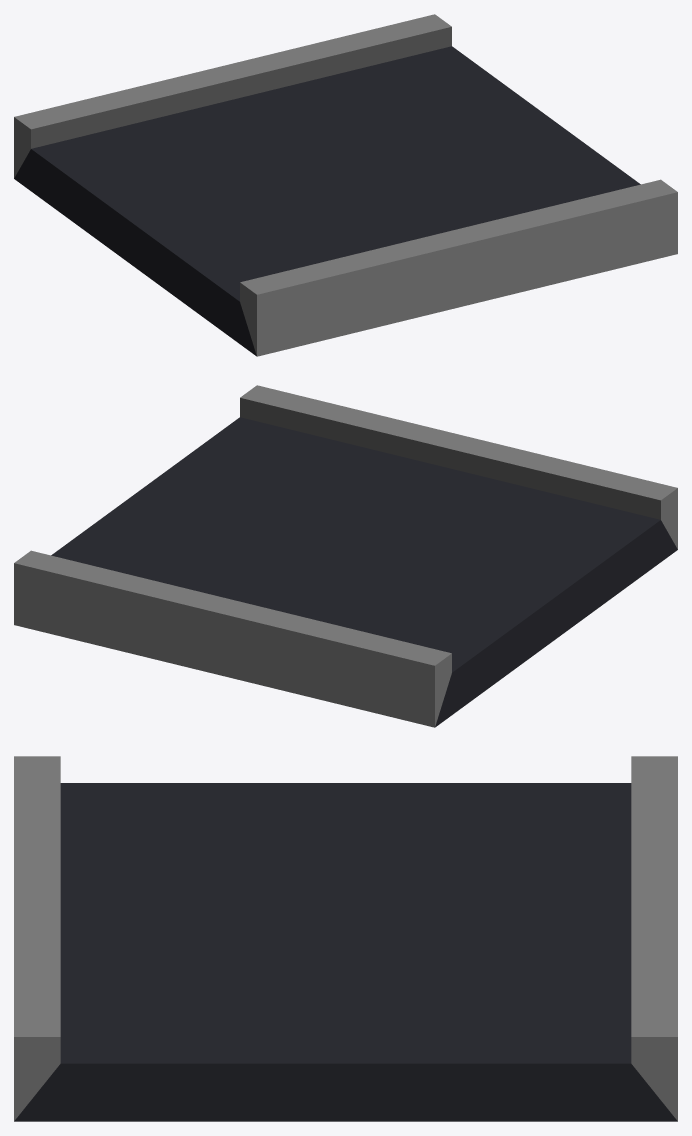
The model's file is SM_FloorStraight.FBX.
The picture shows the model from 3 angles, top to bottom: view 1: azimuth 30°, elevation 25°; view 2: azimuth 150°, elevation 25°; view 3: azimuth 270°, elevation 25°; orthographic projection. The views are drawn at different scales.
Parts seen in each view (by area): view 1: SM_FloorStraight; view 2: SM_FloorStraight; view 3: SM_FloorStraight.
Boxes of the visible parts, bbox=[...] form: SM_FloorStraight: bbox=[14, 14, 677, 356]; SM_FloorStraight: bbox=[14, 385, 677, 727]; SM_FloorStraight: bbox=[14, 756, 677, 1121].
Size of what is drawn, in the model's own units: 500 by 500 by 70.28.
